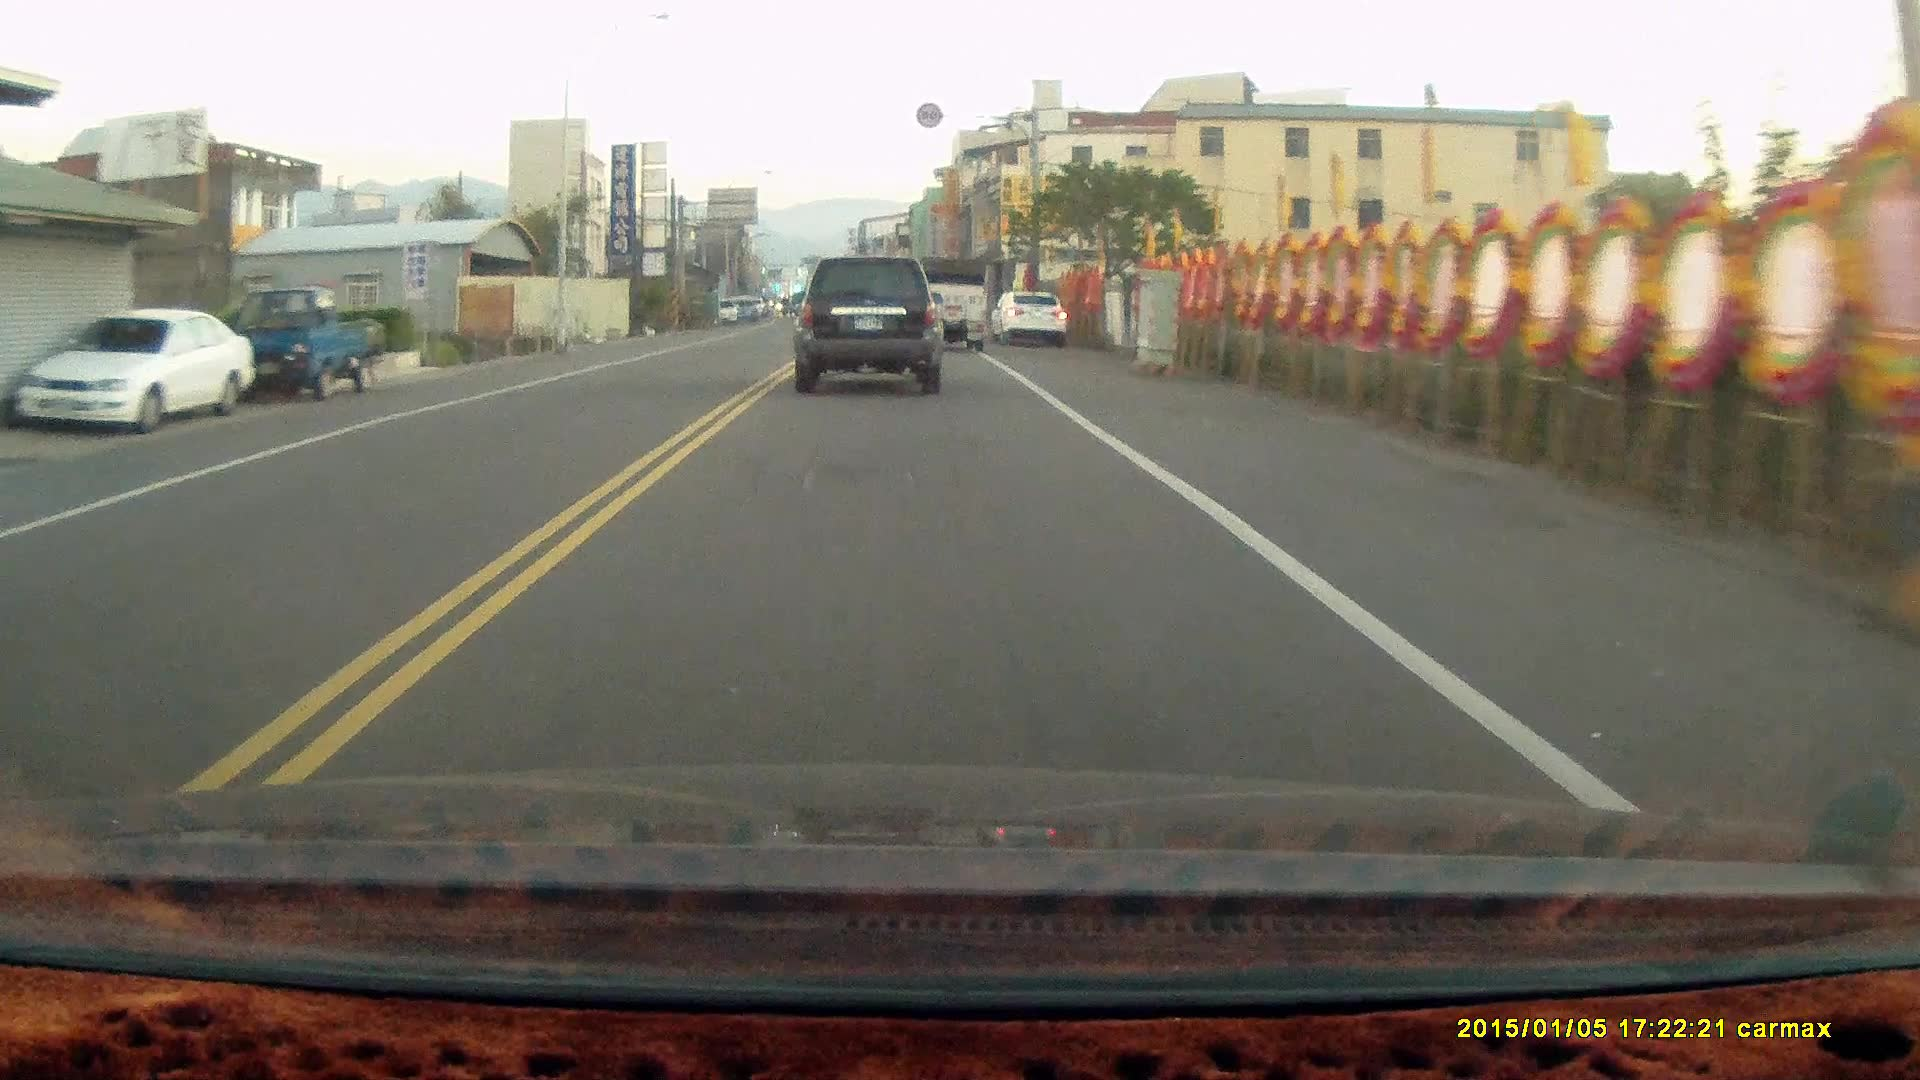vehicle: (15, 307, 251, 426), (795, 255, 945, 396), (216, 284, 389, 405), (914, 255, 992, 349), (998, 286, 1069, 347)
